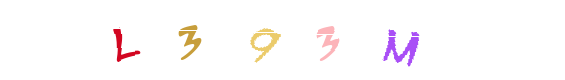3: (185, 0, 265, 80), (254, 0, 334, 80)
9: (242, 0, 322, 80)
L: (82, 0, 162, 80)
M: (362, 0, 442, 80)
